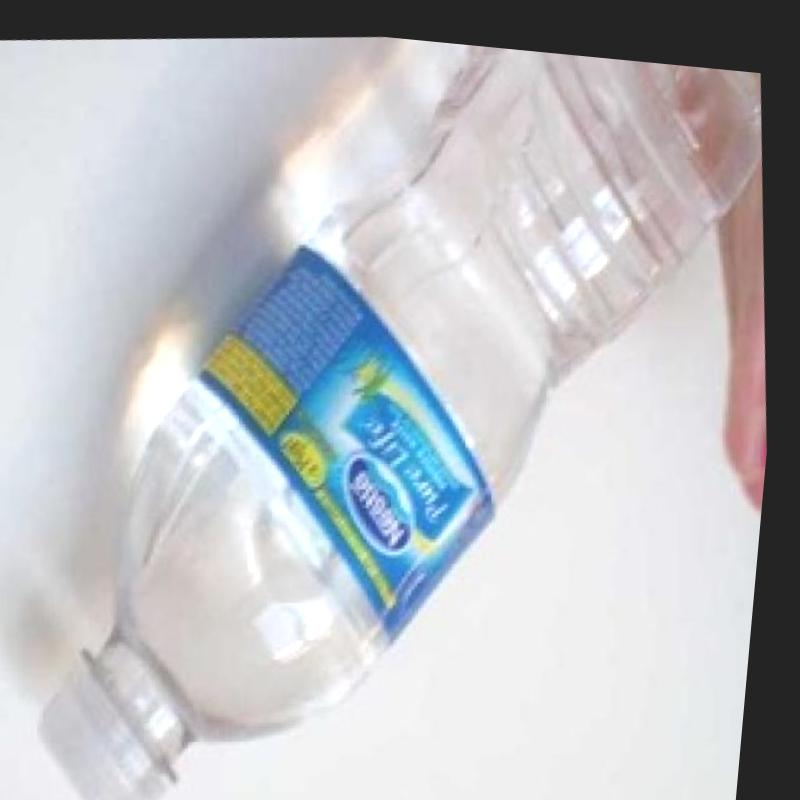botella: (0, 2, 800, 800)
